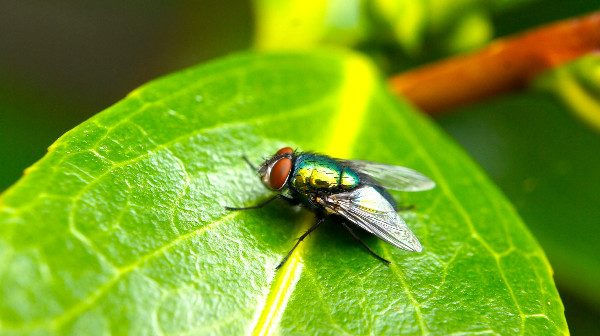house fly: (224, 144, 438, 283)
